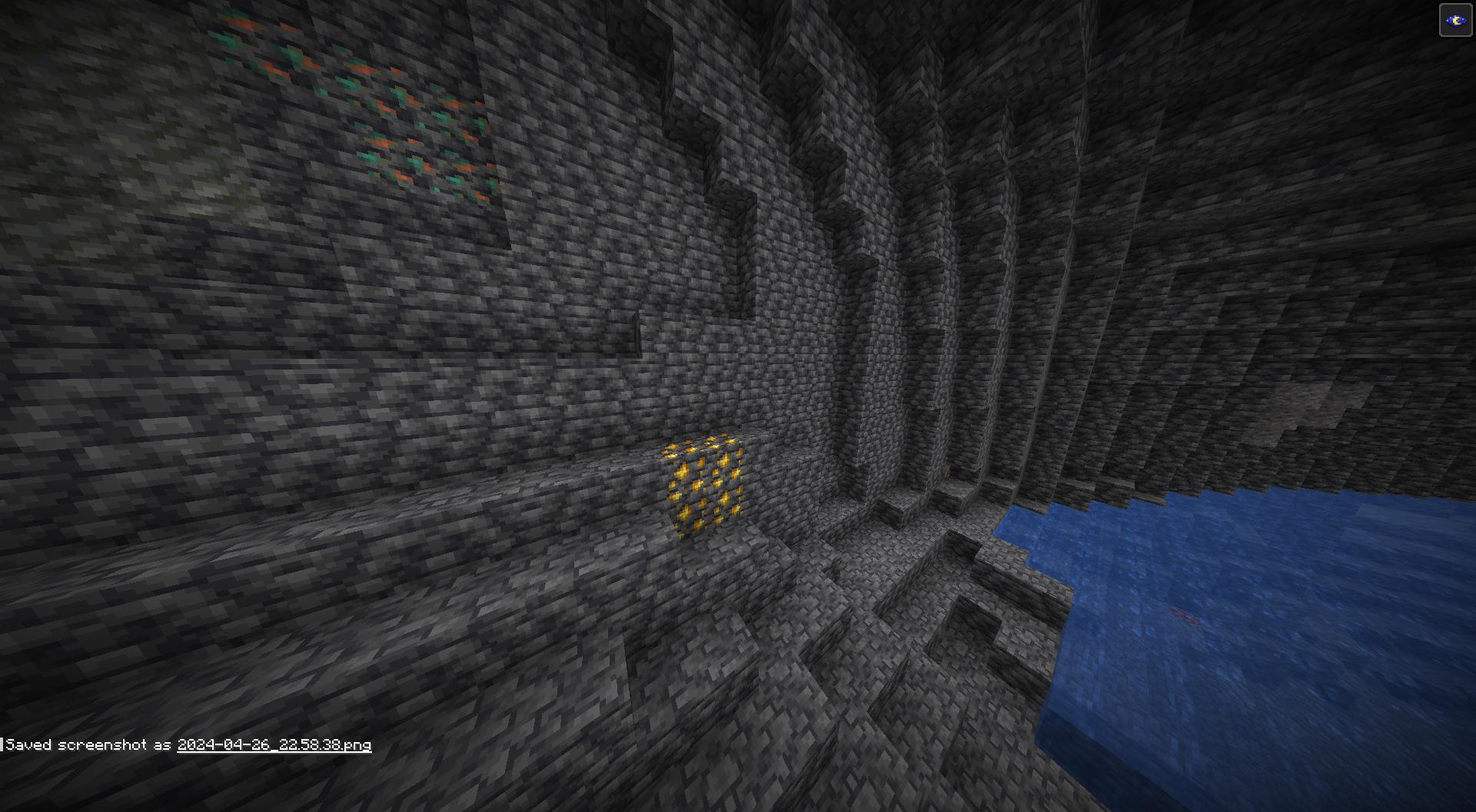gold ore: (661, 438, 709, 495), (698, 430, 743, 489), (707, 488, 746, 530), (674, 494, 709, 539)
